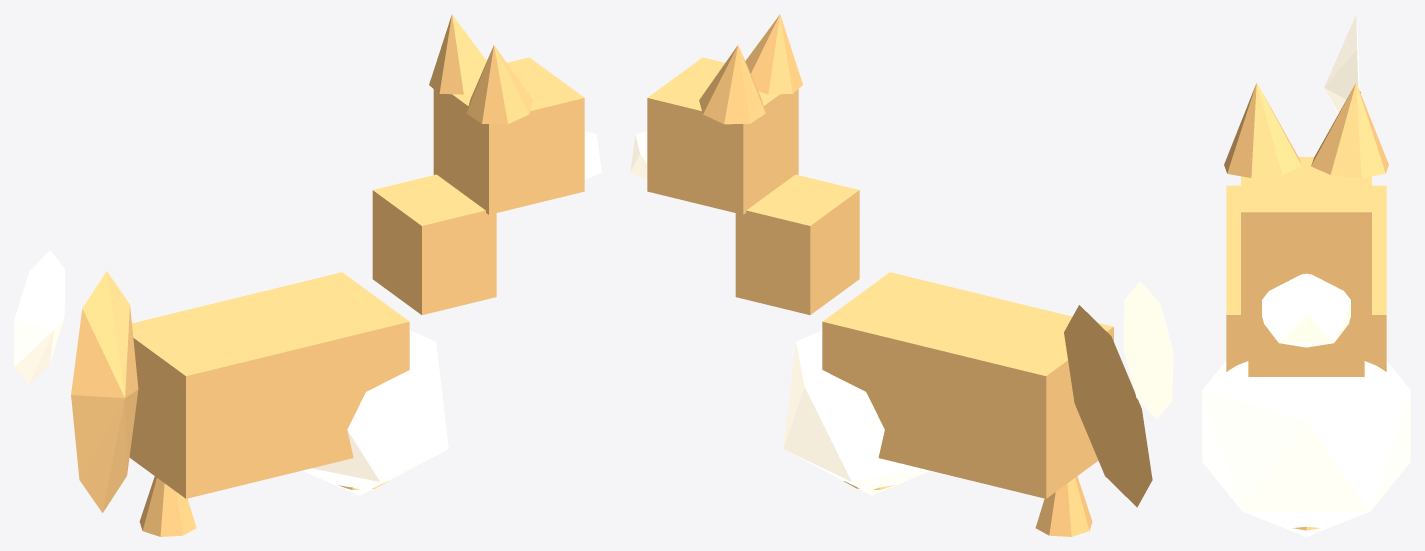
Rendered from SkyFox.fbx.
The picture shows the model from 3 angles, left to right: view 1: azimuth 30°, elevation 25°; view 2: azimuth 150°, elevation 25°; view 3: azimuth 270°, elevation 25°; orthographic projection. The views are drawn at different scales.
Visible parts, largest first — view 1: SkyFox_Body, SkyFox_Head, SkyFox_Neck, SkyFox_Tail, SkyFox_Chest, SkyFox_TailTip, SkyFox_EarL, SkyFox_EarR, SkyFox_Leg1, SkyFox_Muzzle; view 2: SkyFox_Body, SkyFox_Head, SkyFox_Neck, SkyFox_Chest, SkyFox_Tail, SkyFox_TailTip, SkyFox_EarR, SkyFox_EarL, SkyFox_Leg1, SkyFox_Muzzle; view 3: SkyFox_Chest, SkyFox_Head, SkyFox_Body, SkyFox_Muzzle, SkyFox_Neck, SkyFox_EarL, SkyFox_EarR, SkyFox_TailTip.
Part boxes in pixels (x1,y1,x2,y2): SkyFox_Body: [129, 272, 409, 498]; SkyFox_Head: [433, 57, 584, 214]; SkyFox_Neck: [372, 174, 496, 314]; SkyFox_Tail: [71, 271, 138, 512]; SkyFox_Chest: [302, 330, 448, 495]; SkyFox_TailTip: [14, 250, 64, 385]; SkyFox_EarL: [466, 45, 532, 124]; SkyFox_EarR: [429, 14, 486, 94]; SkyFox_Leg1: [139, 476, 196, 536]; SkyFox_Muzzle: [584, 131, 601, 179]; SkyFox_Body: [822, 272, 1113, 498]; SkyFox_Head: [647, 57, 798, 214]; SkyFox_Neck: [735, 174, 859, 314]; SkyFox_Chest: [783, 330, 929, 495]; SkyFox_Tail: [1064, 305, 1152, 507]; SkyFox_TailTip: [1123, 281, 1173, 419]; SkyFox_EarR: [699, 45, 765, 124]; SkyFox_EarL: [745, 14, 802, 94]; SkyFox_Leg1: [1035, 476, 1092, 536]; SkyFox_Muzzle: [630, 131, 647, 179]; SkyFox_Chest: [1202, 361, 1410, 536]; SkyFox_Head: [1241, 157, 1371, 323]; SkyFox_Body: [1226, 185, 1386, 371]; SkyFox_Muzzle: [1262, 273, 1350, 347]; SkyFox_Neck: [1248, 323, 1364, 376]; SkyFox_EarL: [1224, 83, 1301, 177]; SkyFox_EarR: [1311, 83, 1388, 177]; SkyFox_TailTip: [1324, 15, 1359, 114].
Bounding box in the file's own units: 263 × 197 × 71.45.
